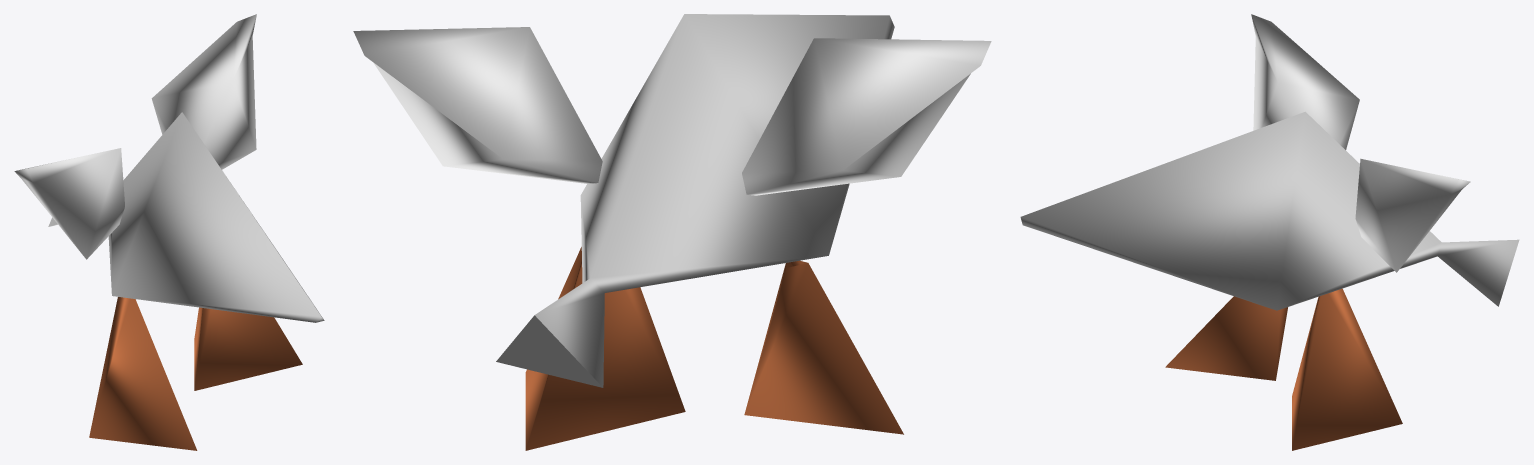
File: heronbaby.dae
The picture shows the model from 3 angles, left to right: view 1: azimuth 30°, elevation 25°; view 2: azimuth 150°, elevation 25°; view 3: azimuth 270°, elevation 25°; orthographic projection. The views are drawn at different scales.
Parts seen in each view (by area): view 1: Body, Foot_R, Wing_L, Wing_R, Foot_L; view 2: Body, Wing_R, Wing_L, Foot_R, Foot_L; view 3: Body, Foot_L, Wing_R, Wing_L, Foot_R.
Boxes of the visible parts, bbox=[...] form: Body: bbox=[48, 112, 324, 322]; Foot_R: bbox=[89, 297, 197, 450]; Wing_L: bbox=[151, 14, 256, 169]; Wing_R: bbox=[14, 148, 124, 259]; Foot_L: bbox=[194, 307, 302, 390]; Body: bbox=[496, 14, 894, 387]; Wing_R: bbox=[742, 38, 991, 195]; Wing_L: bbox=[353, 27, 602, 183]; Foot_R: bbox=[744, 260, 903, 434]; Foot_L: bbox=[525, 247, 685, 450]; Body: bbox=[1020, 111, 1519, 310]; Foot_L: bbox=[1292, 288, 1402, 450]; Wing_R: bbox=[1251, 14, 1359, 149]; Wing_L: bbox=[1355, 158, 1470, 272]; Foot_R: bbox=[1165, 296, 1287, 380].
Bounding box in the file's own units: 2.31 × 2.91 × 1.86.
